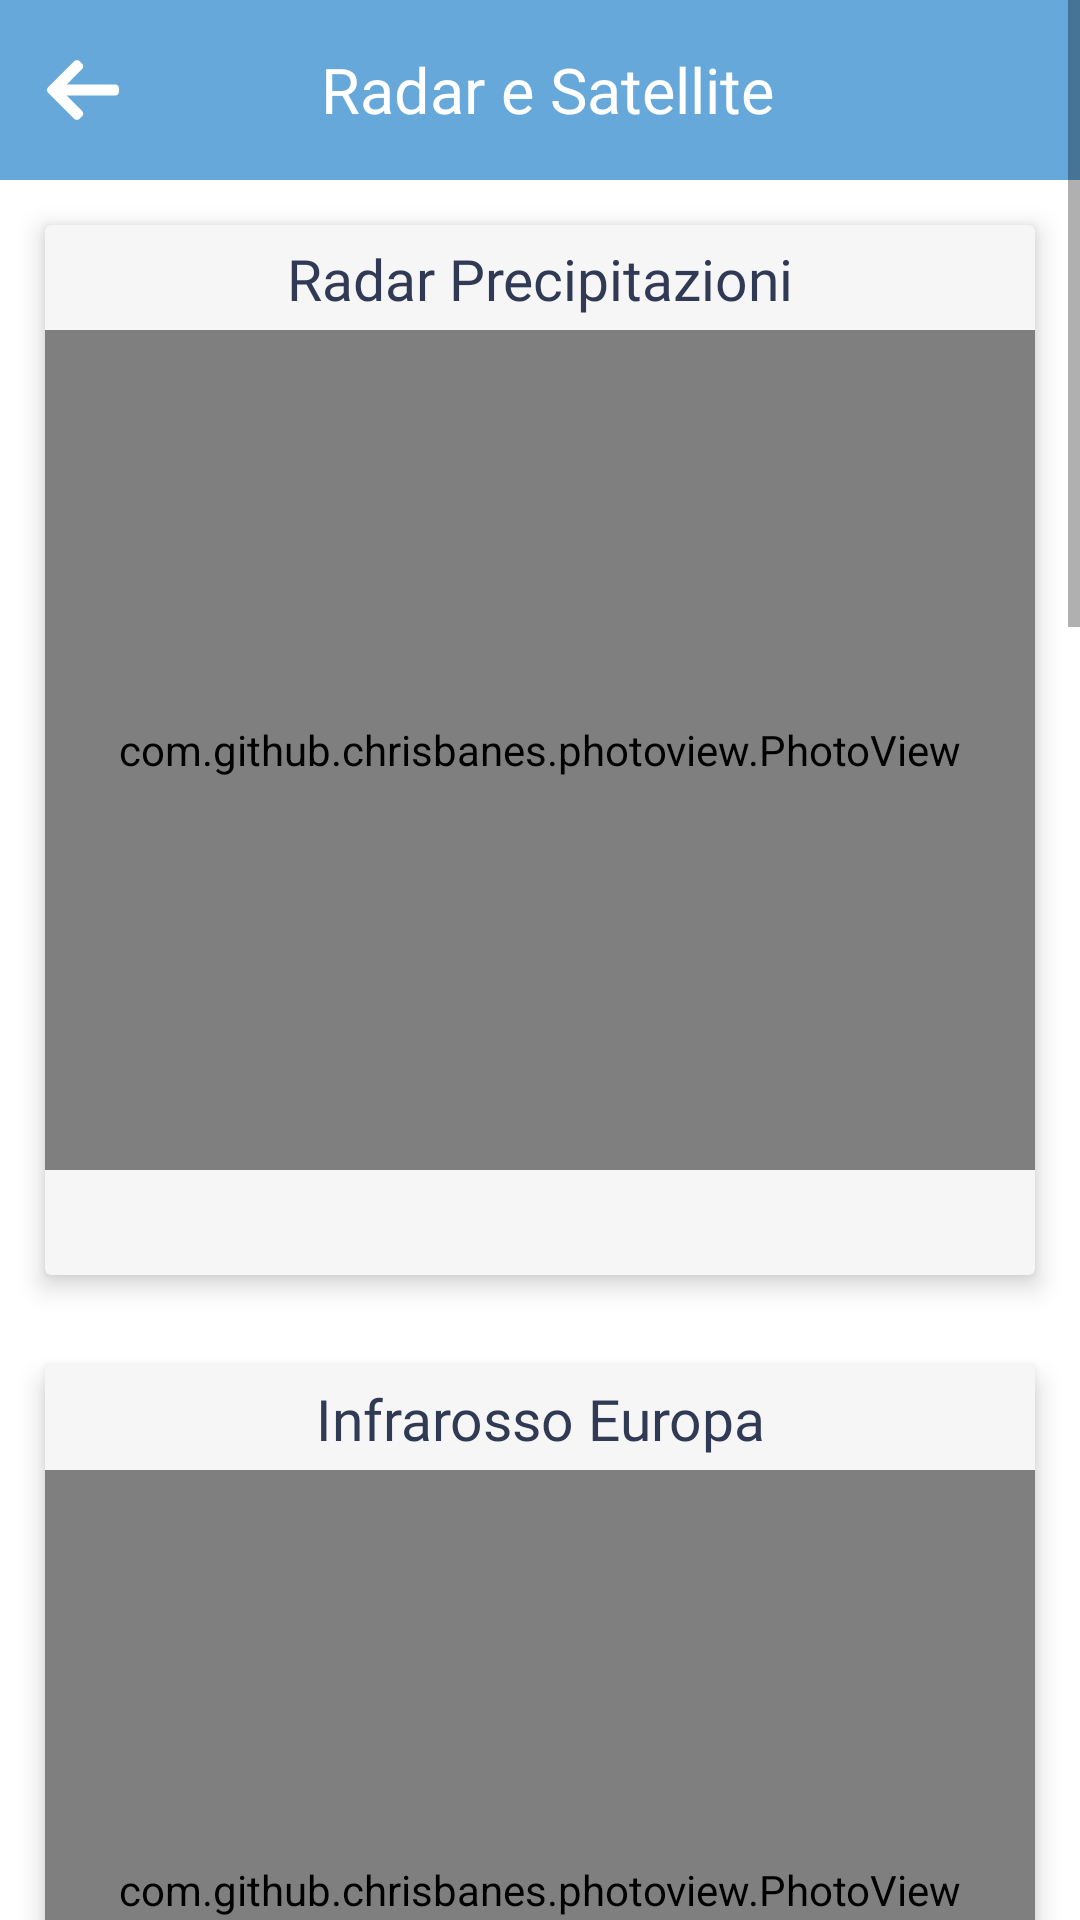

Where icons sit on this 1080 × 1920 app screen, as (x1,y1,x2,y2):
arrow back: (47,60,119,120)
